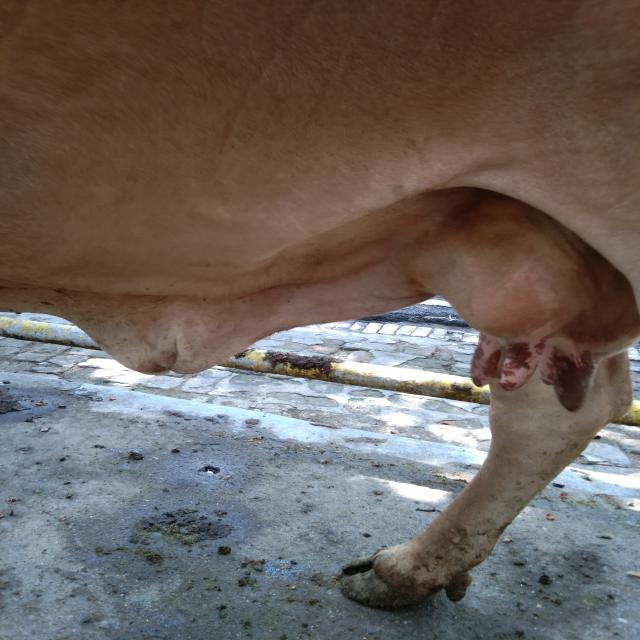Hoof: (338, 545, 472, 611)
